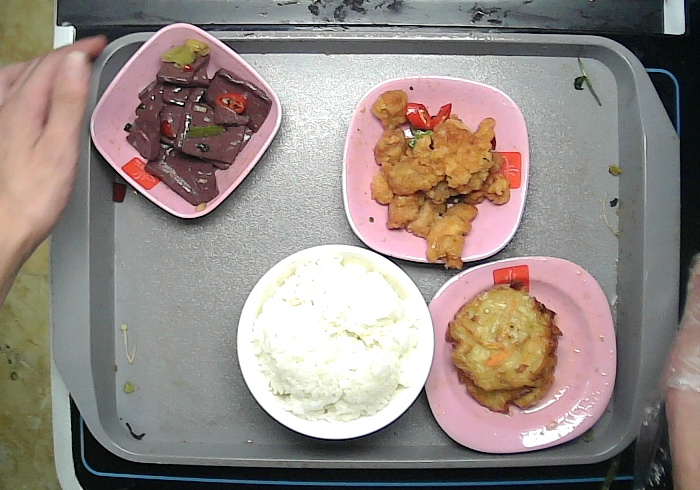SHKJ-Fan_Wan: (235, 240, 435, 441)
SHKJ-Fen_Se_Cai_Die: (340, 76, 533, 265)
SHKJ-Fen_Se_Si_Fang_Cai_Die: (423, 256, 620, 458)
SHKJ-Fen_Se_Xiao_Fang_Die: (89, 22, 284, 223)
